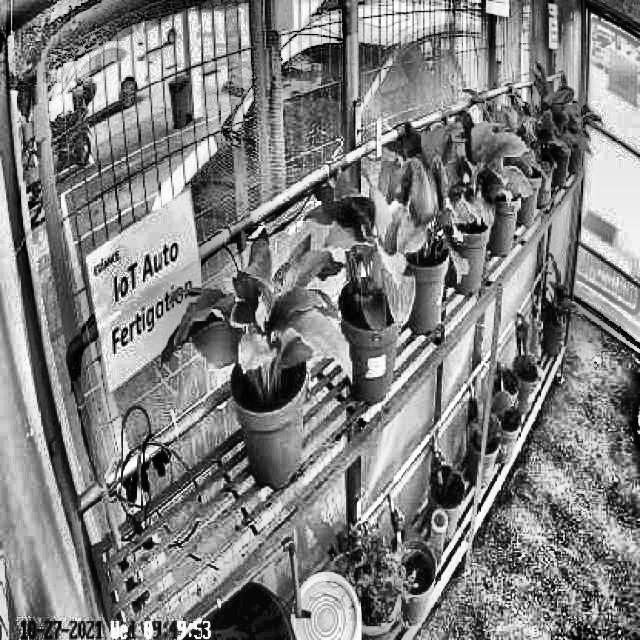plants: (162, 226, 356, 405), (318, 163, 417, 337), (376, 123, 470, 280), (437, 110, 532, 230)
